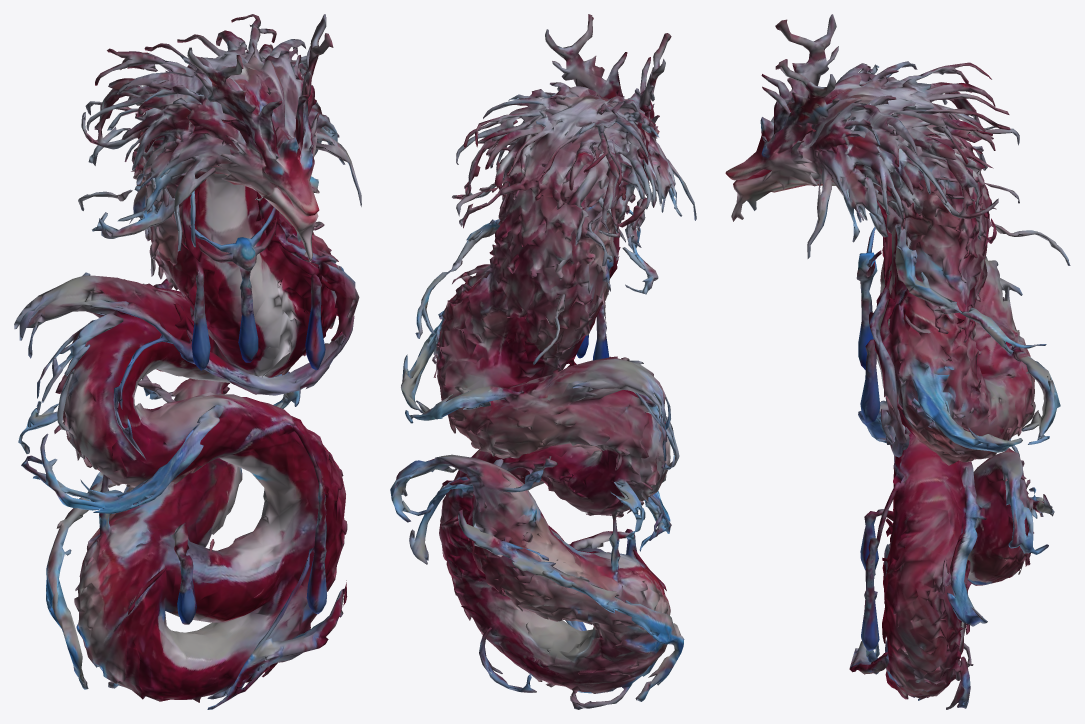
File: long.glb
3 renders of one model, left to right at view 1: azimuth 30°, elevation 25°; view 2: azimuth 150°, elevation 25°; view 3: azimuth 270°, elevation 25°, orthographic. The views are drawn at different scales.
Parts seen in each view (by area): view 1: tripo_node_8d236272-3824-44af-ba36-43d4a28cf1df; view 2: tripo_node_8d236272-3824-44af-ba36-43d4a28cf1df; view 3: tripo_node_8d236272-3824-44af-ba36-43d4a28cf1df.
Boxes of the visible parts, box(x1,y1,x2,y2) form: tripo_node_8d236272-3824-44af-ba36-43d4a28cf1df: box(14, 14, 361, 709); tripo_node_8d236272-3824-44af-ba36-43d4a28cf1df: box(390, 14, 696, 709); tripo_node_8d236272-3824-44af-ba36-43d4a28cf1df: box(725, 14, 1070, 709).
Bounding box in the file's own units: 0.454 × 0.9978 × 0.4751.
1 material, 1 textured.
